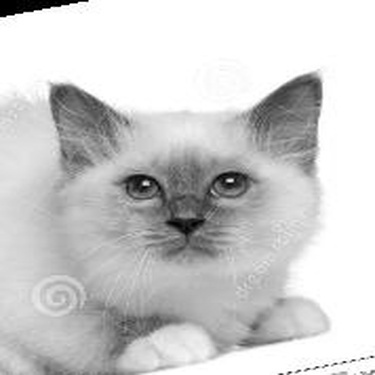cat: (7, 64, 339, 367)
